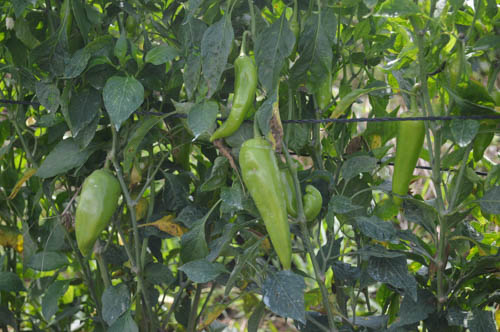ChiliPepper: (241, 140, 290, 271), (74, 172, 121, 257), (209, 61, 254, 149), (393, 112, 422, 202), (280, 175, 323, 221)
